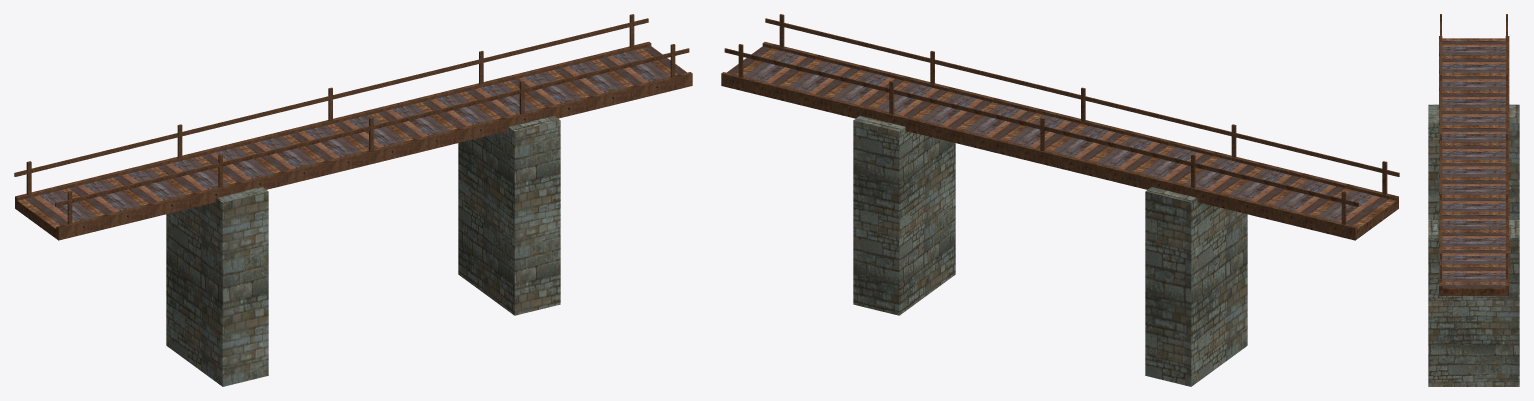
Rendered from Bridge.fbx.
3 renders of one model, left to right at view 1: azimuth 30°, elevation 25°; view 2: azimuth 150°, elevation 25°; view 3: azimuth 270°, elevation 25°, orthographic. The views are drawn at different scales.
Parts seen in each view (by area): view 1: Bridge; view 2: Bridge; view 3: Bridge.
Boxes of the visible parts, x1=… form: Bridge: x1=14, y1=14, x2=692, y2=386; Bridge: x1=721, y1=14, x2=1399, y2=386; Bridge: x1=1428, y1=14, x2=1519, y2=386.
Size of the model in its own units: 884 by 299 by 136.
Materials: 3 (3 with a texture image).
